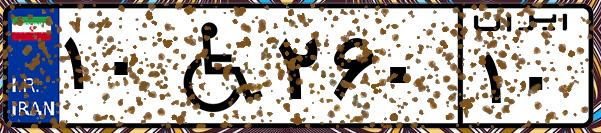0: (385, 28, 445, 110), (525, 38, 570, 115), (110, 28, 158, 98)
1: (57, 26, 110, 100), (475, 38, 525, 113)
2: (270, 28, 330, 110)
6: (330, 28, 385, 110)
ژ (معلولین و جانبازان): (158, 12, 270, 120)
